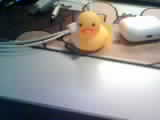duck: (59, 7, 116, 57)
